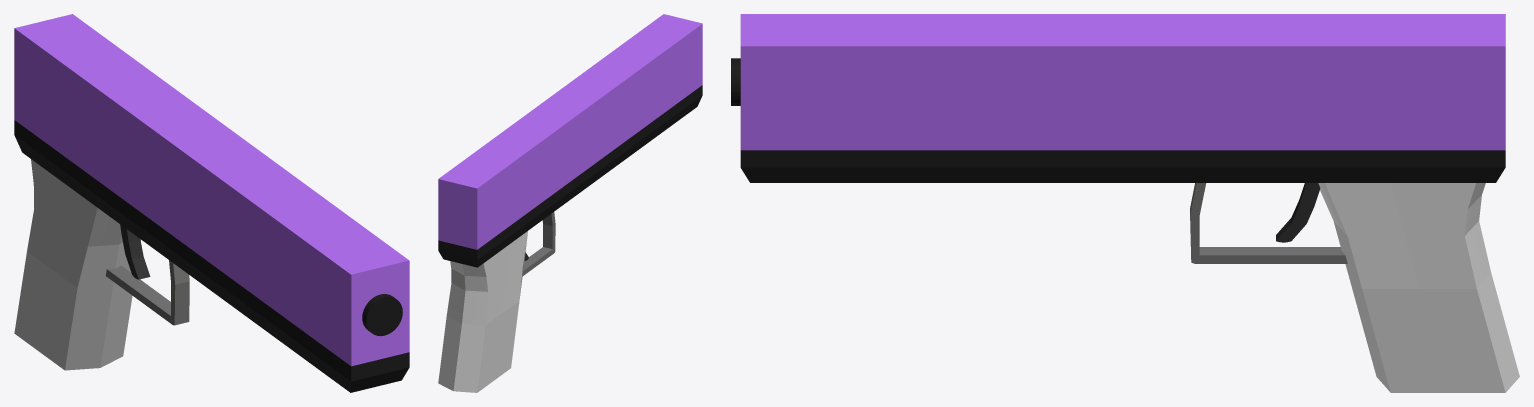
File: pistol_test v1.fbx
3 views of the same model, side by side, from view 1: azimuth 30°, elevation 25°; view 2: azimuth 150°, elevation 25°; view 3: azimuth 270°, elevation 25° (orthographic). The views are drawn at different scales.
Visible parts, largest first — view 1: Cube; view 2: Cube; view 3: Cube.
Part boxes in pixels (x1=…): Cube: x1=14, y1=14, x2=409, y2=392; Cube: x1=438, y1=14, x2=702, y2=392; Cube: x1=731, y1=14, x2=1519, y2=392.
Bounding box in the file's own units: 200 × 1000 × 2063.
